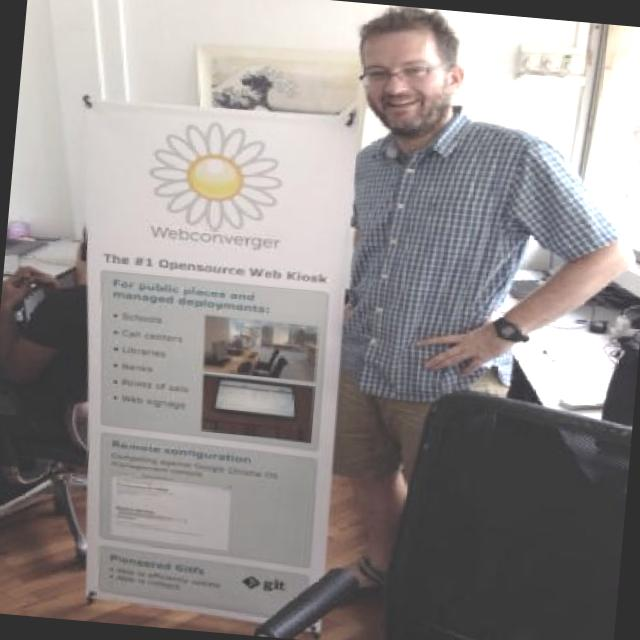Person: (307, 2, 640, 618)
